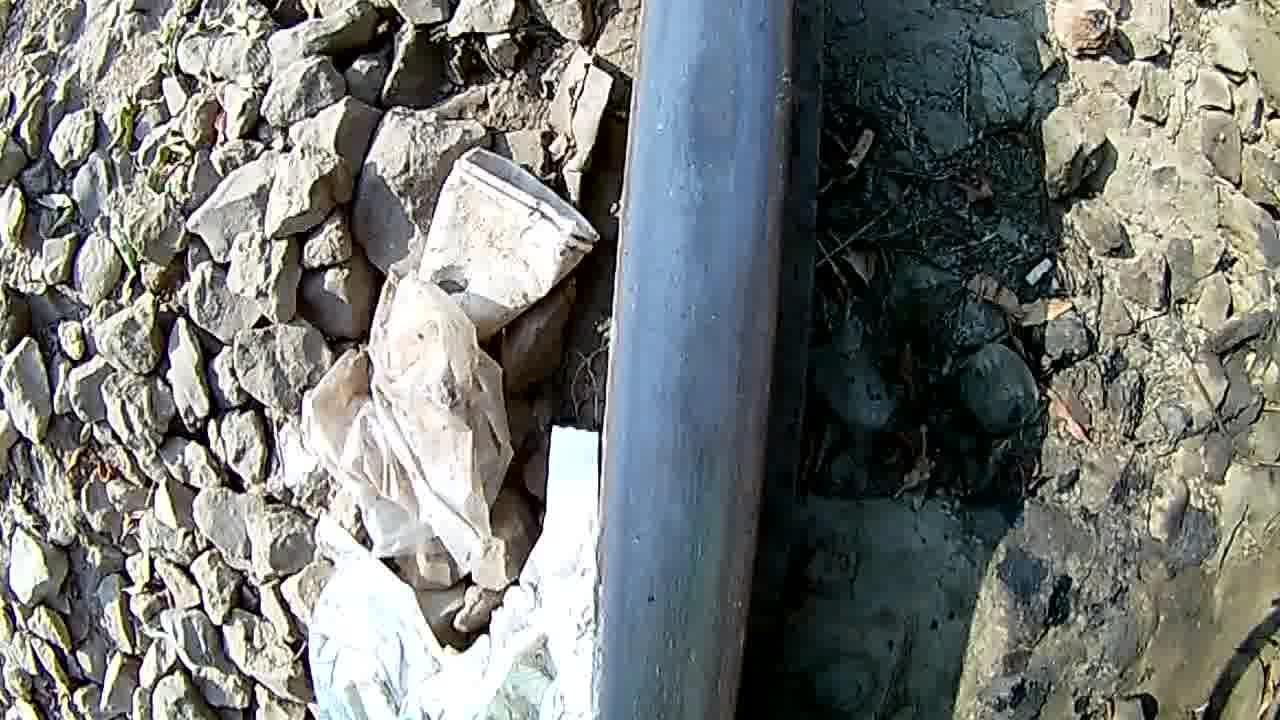bolt_missing: (596, 0, 782, 720)
